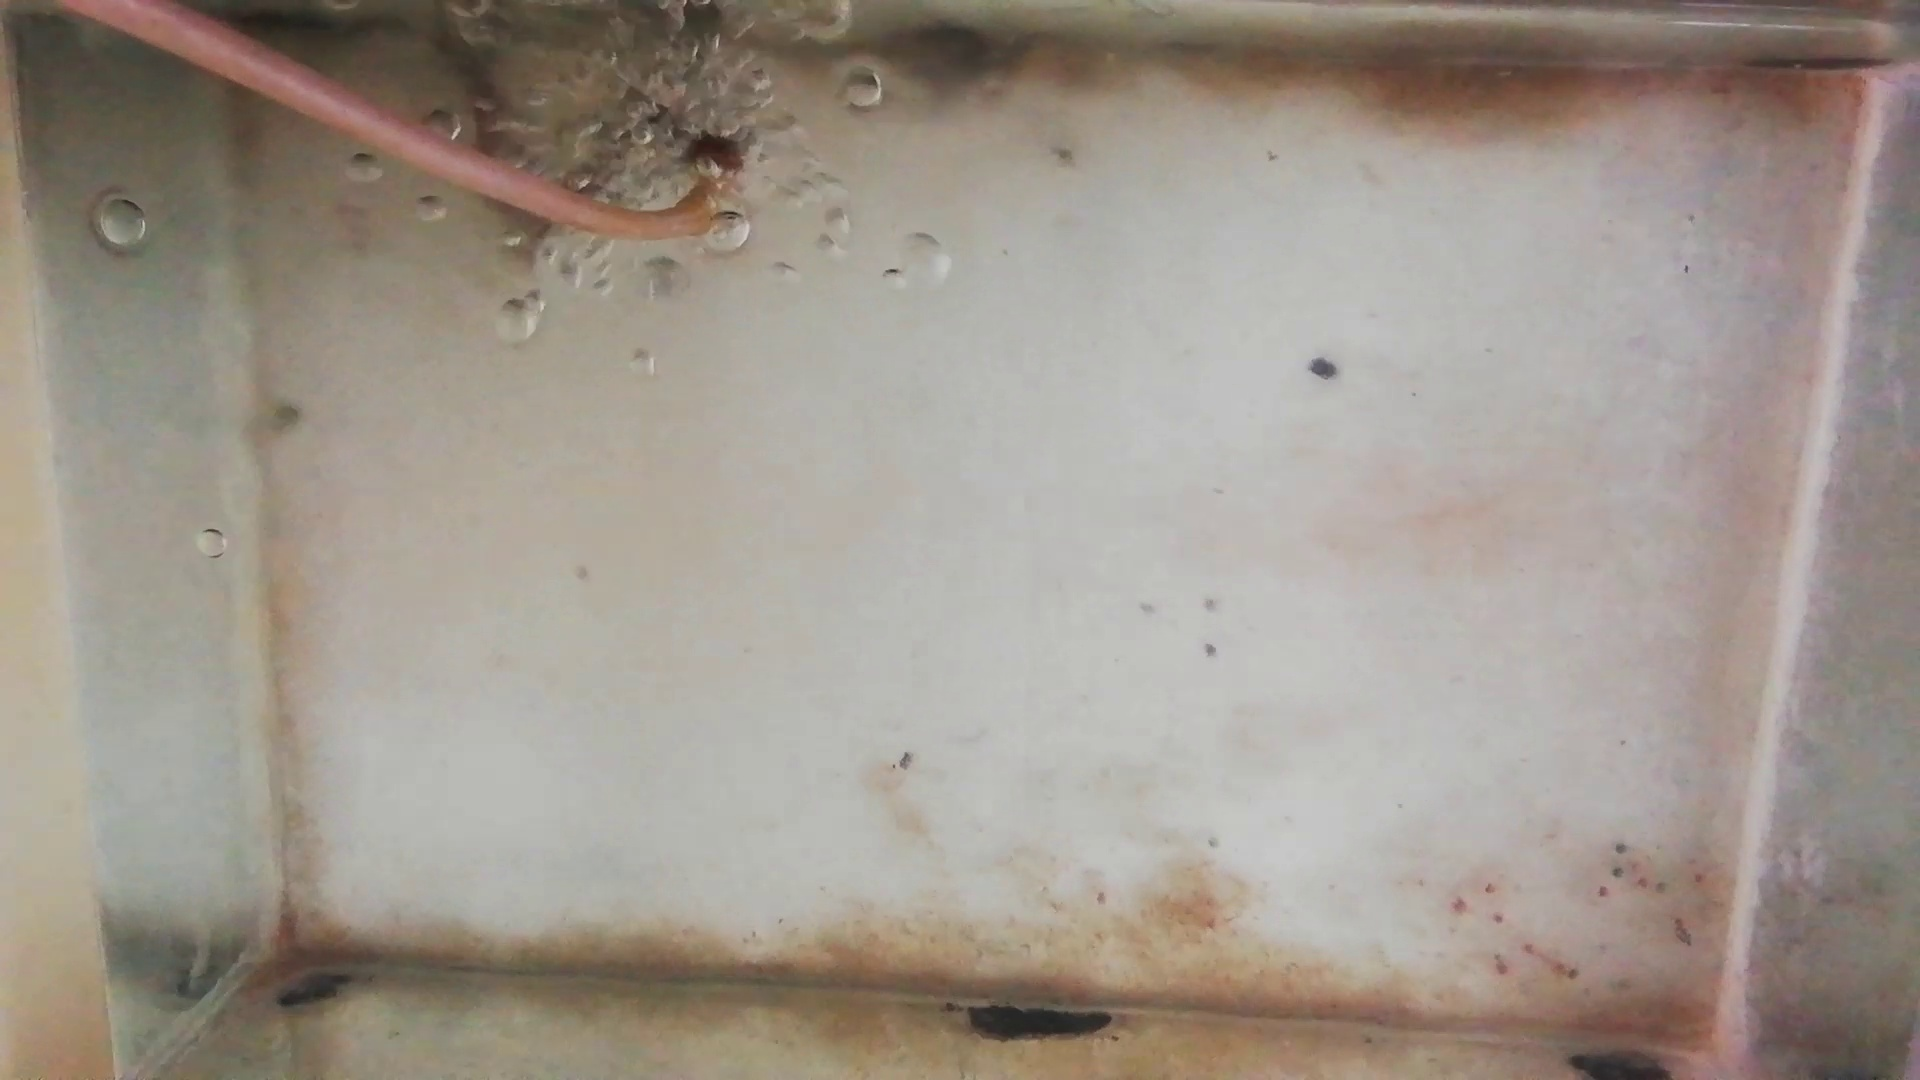fish: (433, 17, 531, 181)
